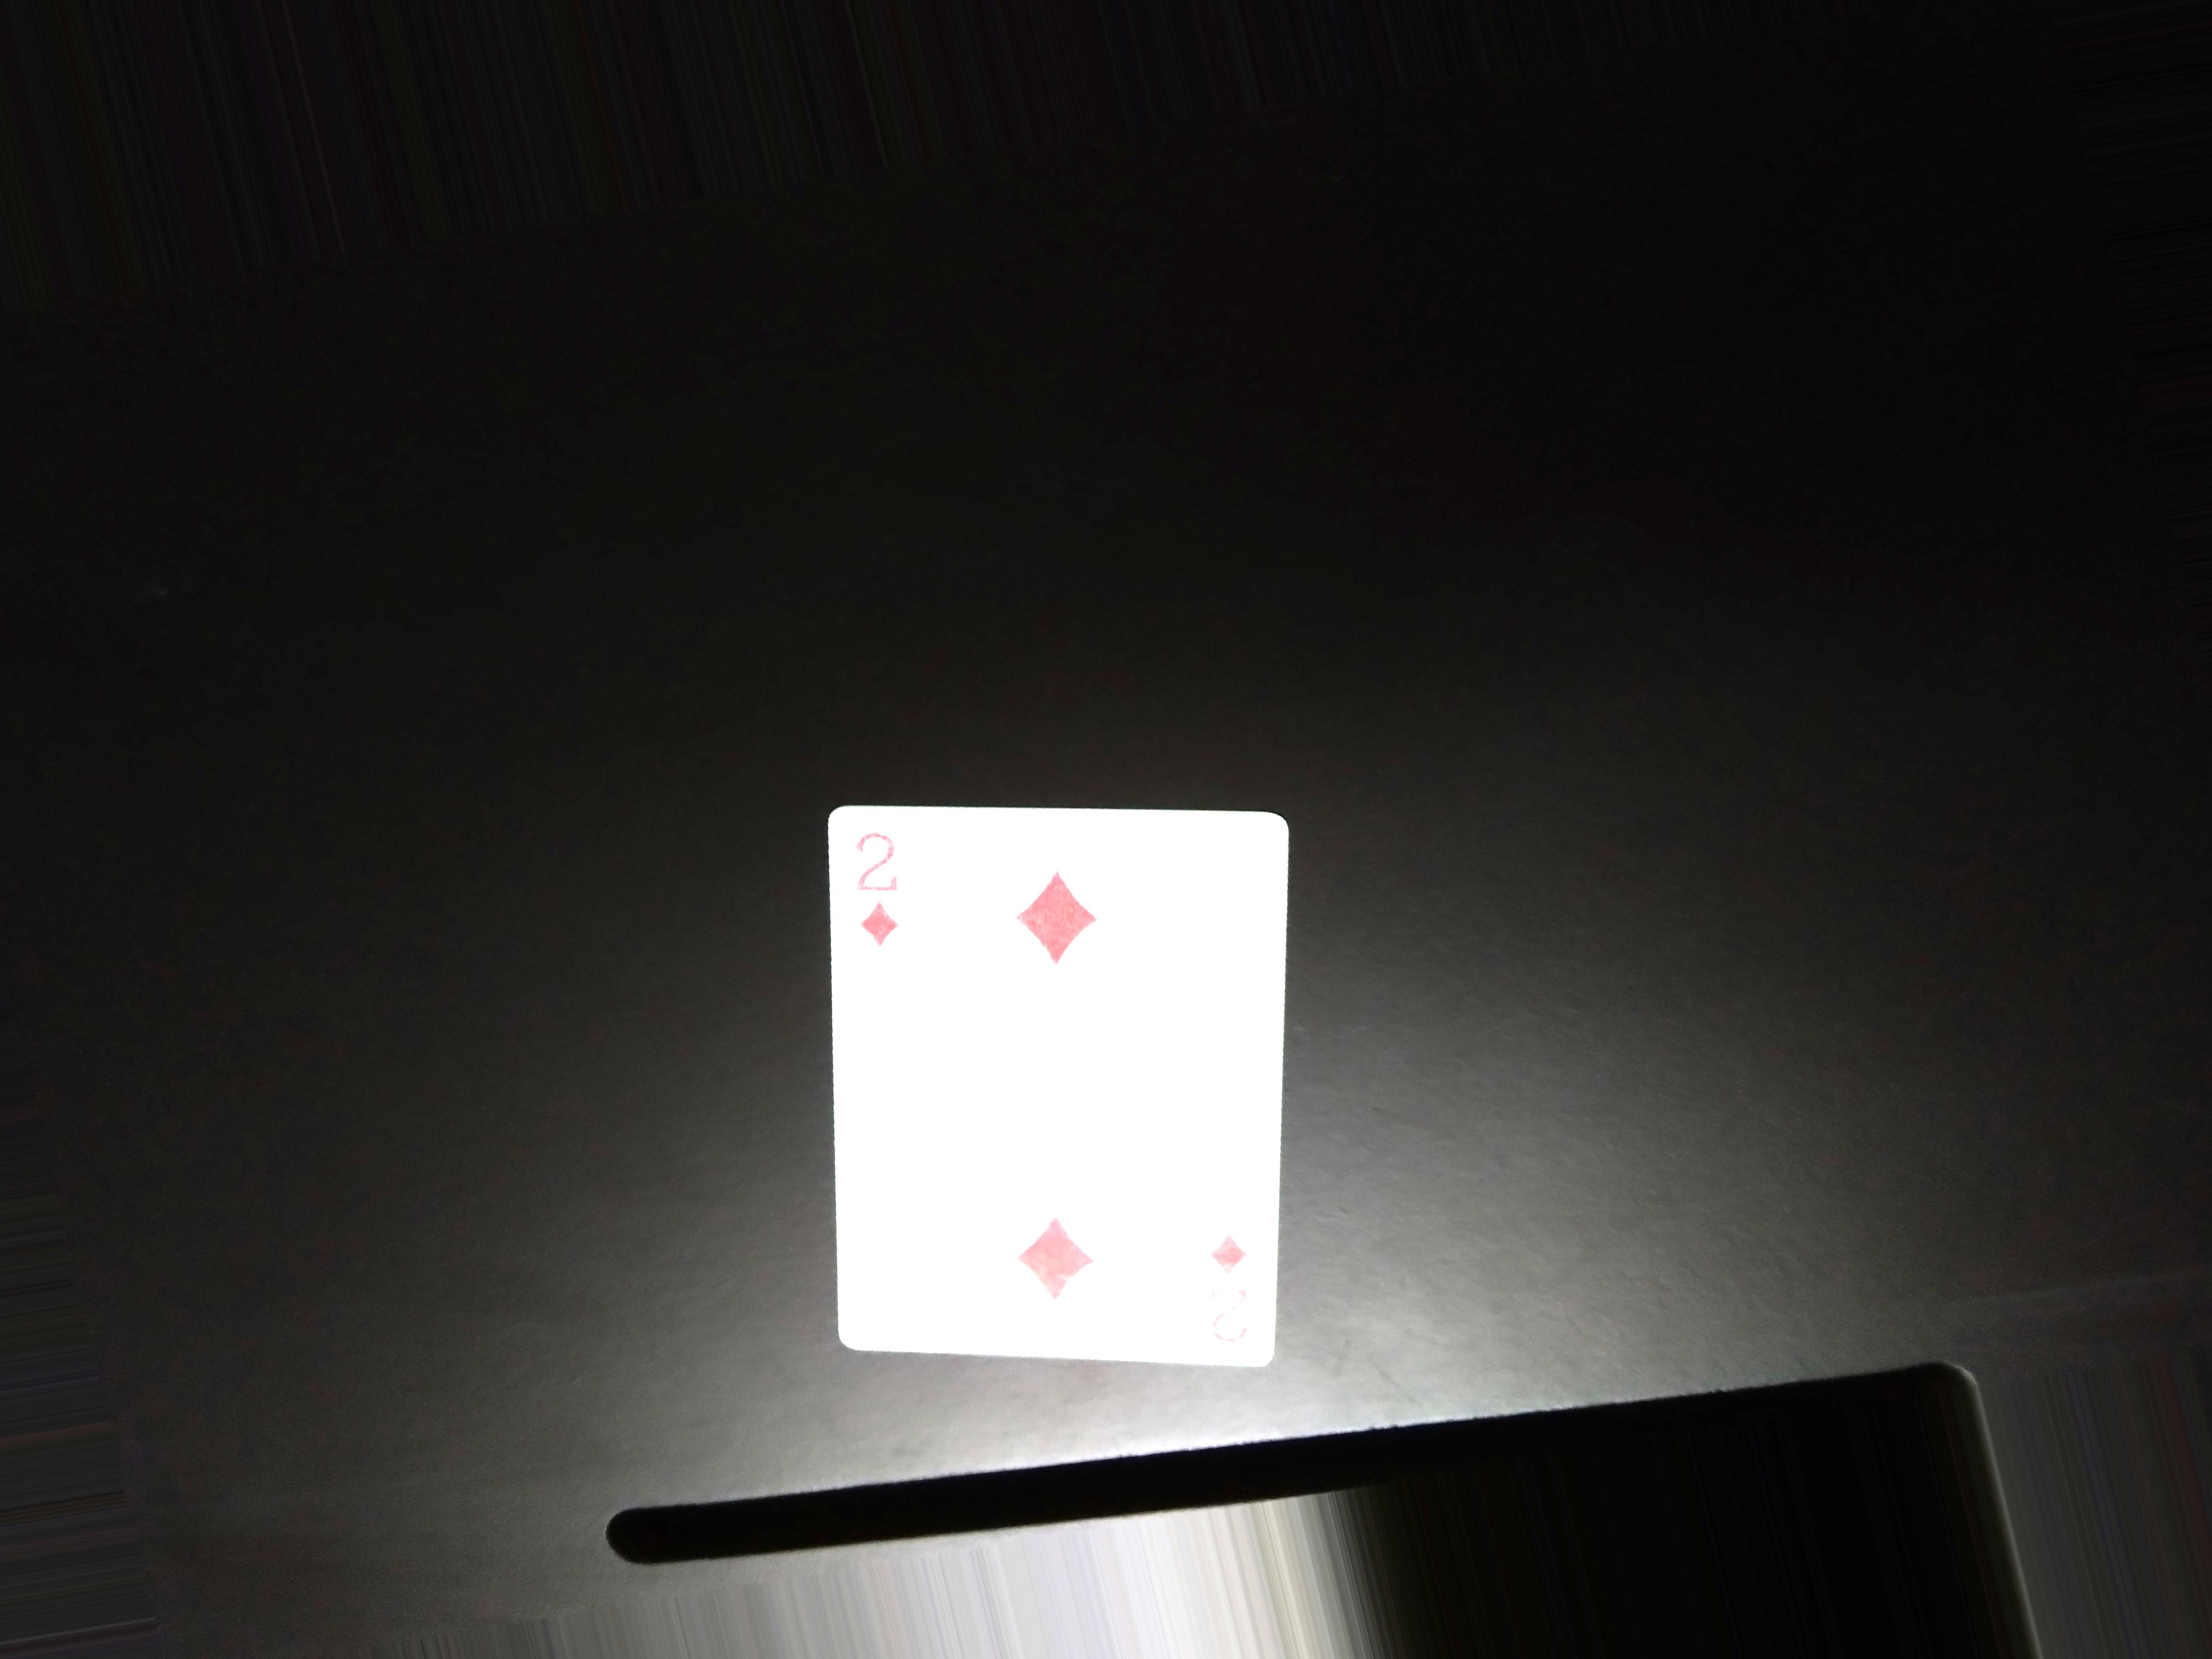2D: (1197, 1220, 1264, 1359)
